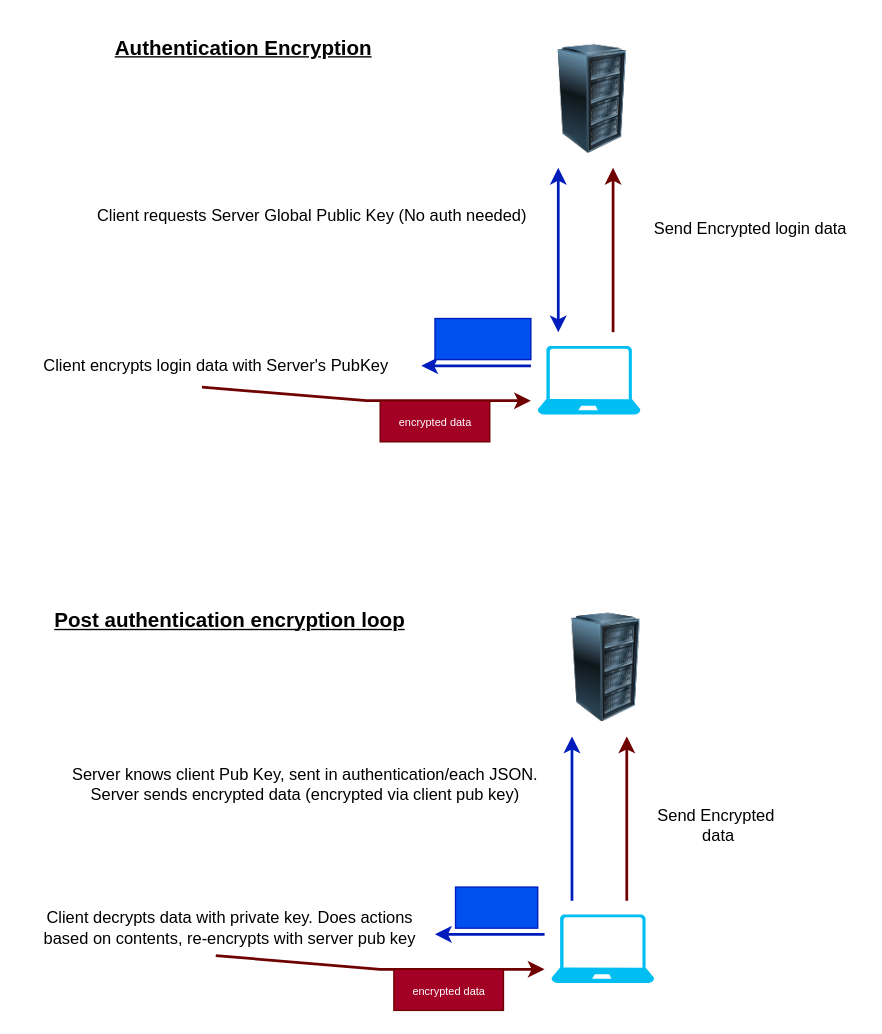
Some shapes in this 882 by 1034 pixel diagram are drawn without their labels. Here are the shapes that lost their labels. From the top down, the centre of each, then its label:
At (x=482, y=338): "Plaintext data".
At (x=496, y=907): "Encrypted".
